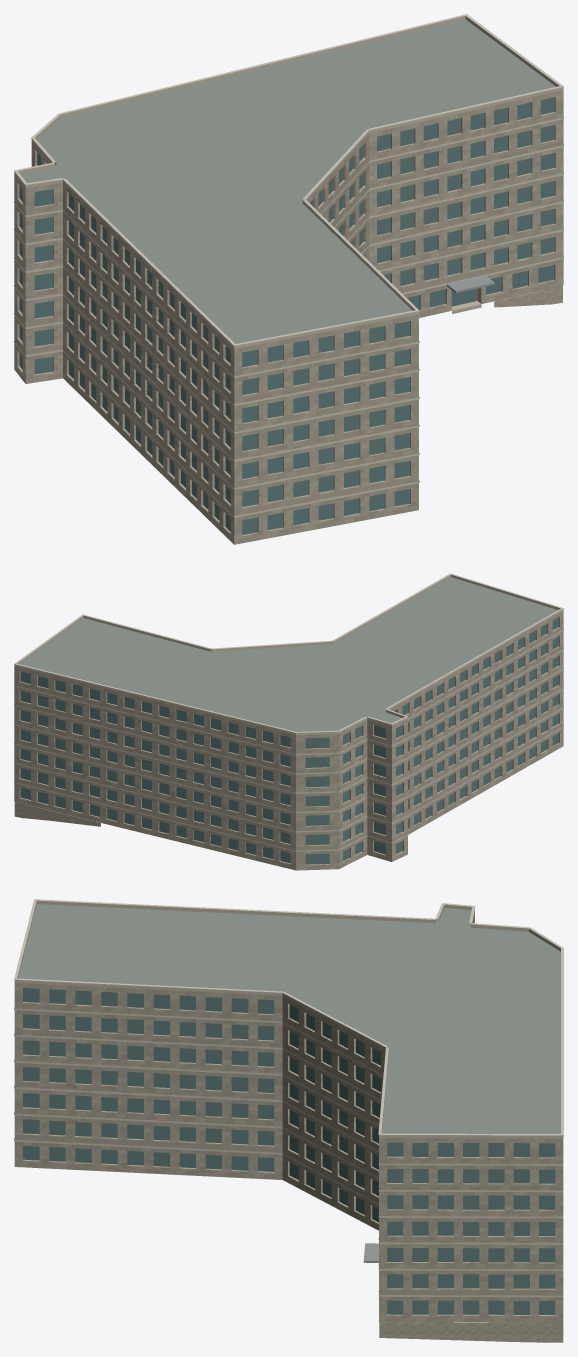
The picture shows the model from 3 angles, top to bottom: view 1: azimuth 30°, elevation 25°; view 2: azimuth 150°, elevation 25°; view 3: azimuth 270°, elevation 25°; orthographic projection. The views are drawn at different scales.
Parts seen in each view (by area): view 1: science__wall, science__roof, science__glass, science__trim, science__frame, science__parapet, science__foundationSkirt; view 2: science__wall, science__roof, science__glass, science__trim, science__frame, science__parapet, science__foundationSkirt; view 3: science__wall, science__roof, science__glass, science__trim, science__frame, science__parapet, science__foundationSkirt.
Boxes of the visible parts, x1=… form: science__wall: x1=14, y1=90, x2=563, y2=544; science__roof: x1=16, y1=19, x2=560, y2=544; science__glass: x1=19, y1=97, x2=554, y2=534; science__trim: x1=14, y1=14, x2=563, y2=517; science__frame: x1=19, y1=98, x2=554, y2=533; science__parapet: x1=14, y1=16, x2=563, y2=348; science__foundationSkirt: x1=494, y1=286, x2=562, y2=307; science__wall: x1=14, y1=611, x2=563, y2=870; science__roof: x1=18, y1=577, x2=557, y2=870; science__glass: x1=20, y1=617, x2=558, y2=864; science__trim: x1=14, y1=573, x2=563, y2=851; science__frame: x1=21, y1=619, x2=558, y2=863; science__parapet: x1=14, y1=574, x2=563, y2=735; science__foundationSkirt: x1=14, y1=802, x2=100, y2=826; science__wall: x1=14, y1=910, x2=563, y2=1322; science__roof: x1=18, y1=904, x2=560, y2=1322; science__glass: x1=23, y1=988, x2=555, y2=1314; science__trim: x1=14, y1=899, x2=563, y2=1297; science__frame: x1=23, y1=988, x2=555, y2=1314; science__parapet: x1=14, y1=900, x2=563, y2=1138; science__foundationSkirt: x1=379, y1=1322, x2=563, y2=1342.
Bounding box in the file's own units: 67.42 × 27.65 × 66.36.
Materials: 10 (2 with a texture image).
